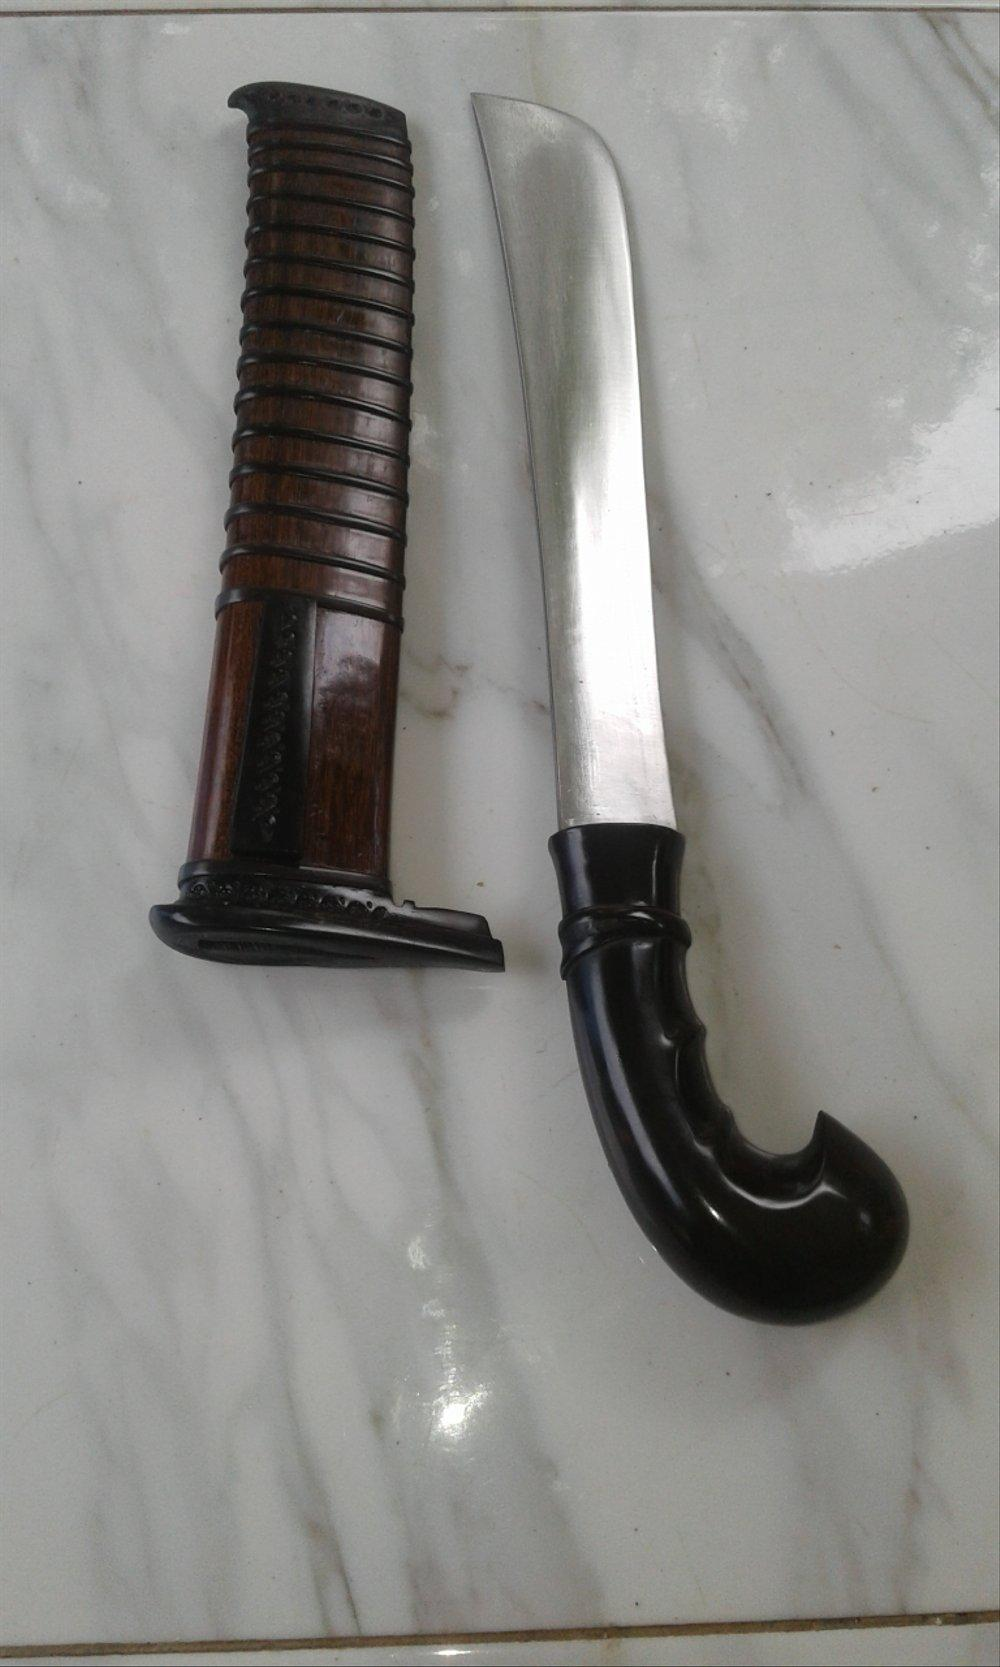facao: (471, 94, 910, 1324)
